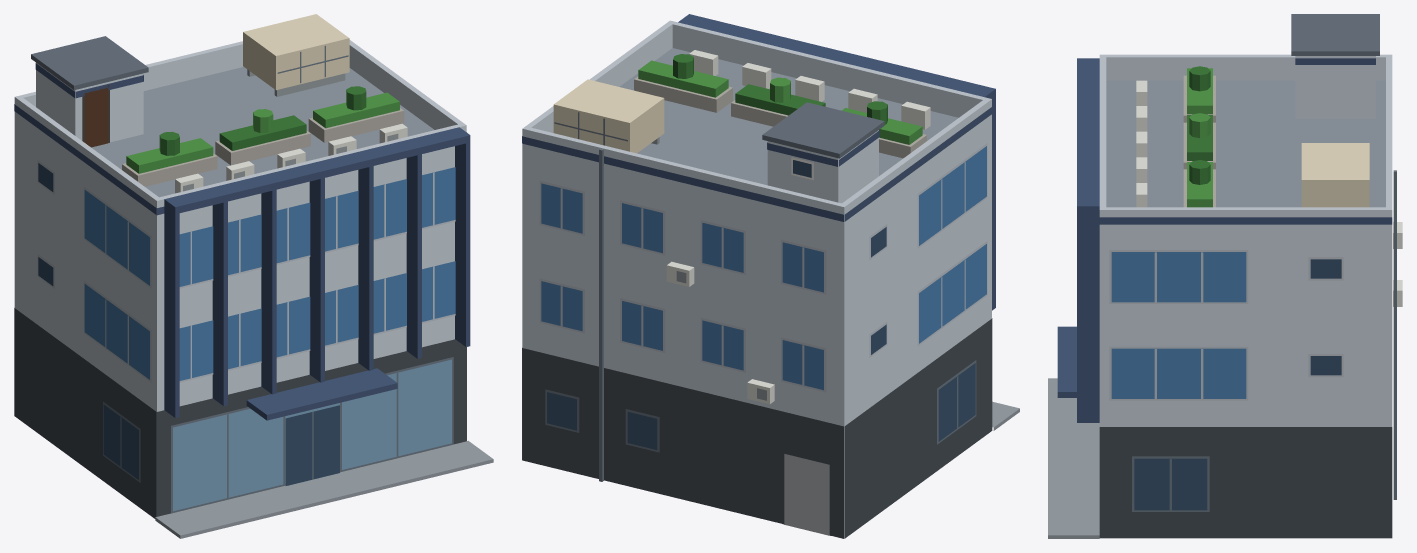
File: kantor_08.glb
3 views of the same model, side by side, from view 1: azimuth 30°, elevation 25°; view 2: azimuth 150°, elevation 25°; view 3: azimuth 270°, elevation 25° (orthographic). The views are drawn at different scales.
Visible parts, largest first — view 1: kantor_08; view 2: kantor_08; view 3: kantor_08.
Part boxes in pixels (x1,y1,x2,y2): kantor_08: (14,14,493,538); kantor_08: (522,14,1019,538); kantor_08: (1048,14,1402,538).
Size of the model in its own units: 11.5 by 12.76 by 10.98.
